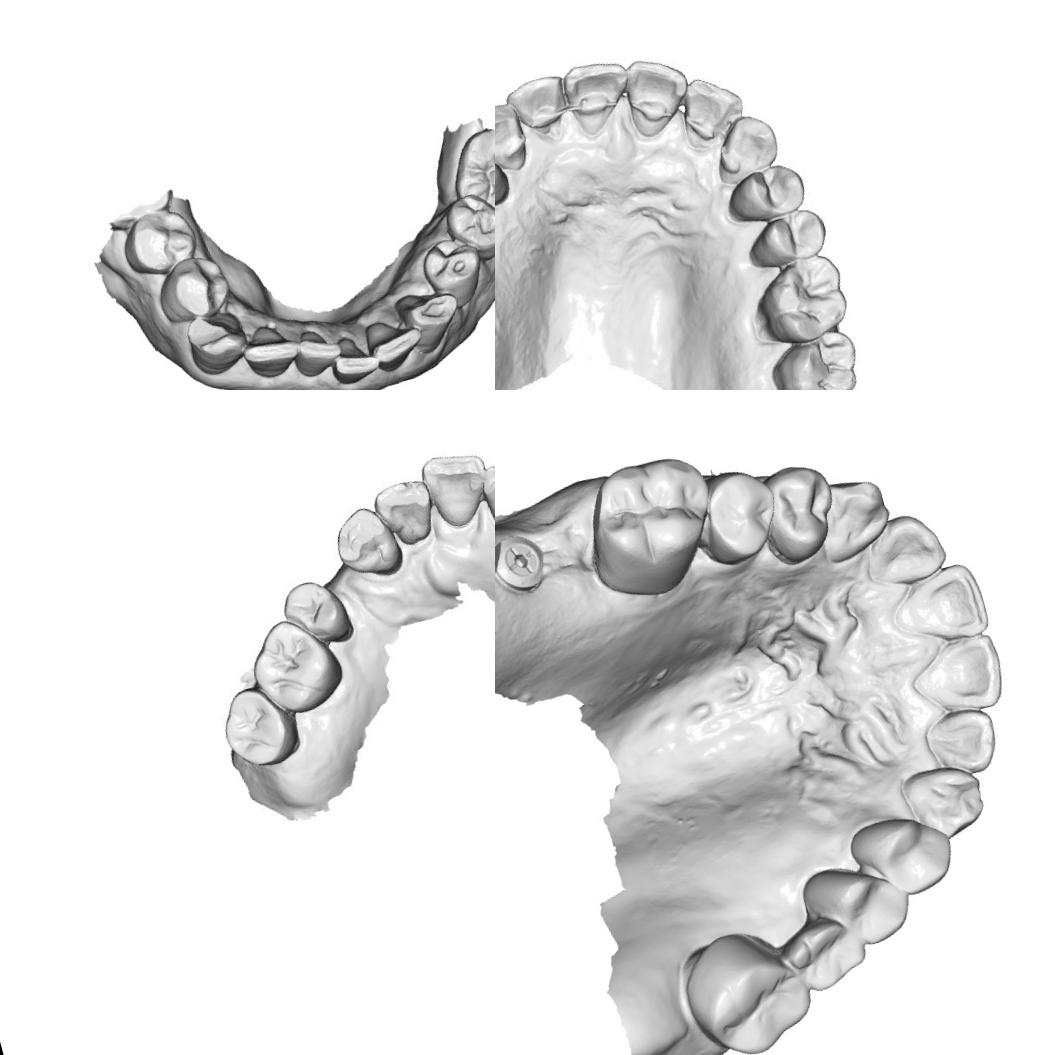canine: (896, 750, 990, 848), (808, 469, 898, 567), (326, 500, 405, 587), (706, 112, 784, 188), (179, 302, 250, 380), (392, 280, 464, 356), (495, 100, 531, 177)
implant_plus: (495, 527, 554, 600)
incisor: (901, 626, 1013, 727), (883, 556, 993, 652), (858, 501, 956, 596), (413, 441, 495, 534), (556, 51, 638, 135), (922, 700, 1006, 782), (619, 50, 694, 136), (674, 68, 751, 148), (367, 472, 440, 553), (358, 308, 429, 374), (504, 72, 573, 137), (236, 318, 302, 384), (288, 325, 348, 383), (324, 328, 382, 387), (473, 453, 495, 541)
molar: (569, 446, 724, 609), (671, 914, 823, 1055), (239, 606, 350, 722), (754, 253, 858, 354), (211, 678, 305, 776), (767, 322, 865, 390), (439, 113, 495, 227)
premolar: (846, 800, 962, 906), (807, 847, 916, 958), (750, 456, 848, 570), (689, 459, 788, 571), (769, 907, 873, 1001), (113, 202, 201, 282), (148, 246, 232, 329), (724, 160, 813, 229), (416, 229, 488, 308), (280, 572, 354, 647), (754, 203, 828, 270), (439, 184, 495, 268)
